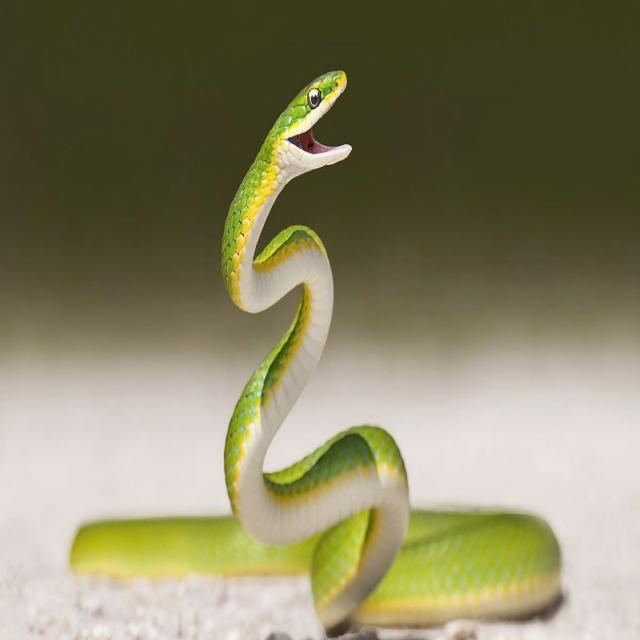snake: (72, 71, 561, 633)
